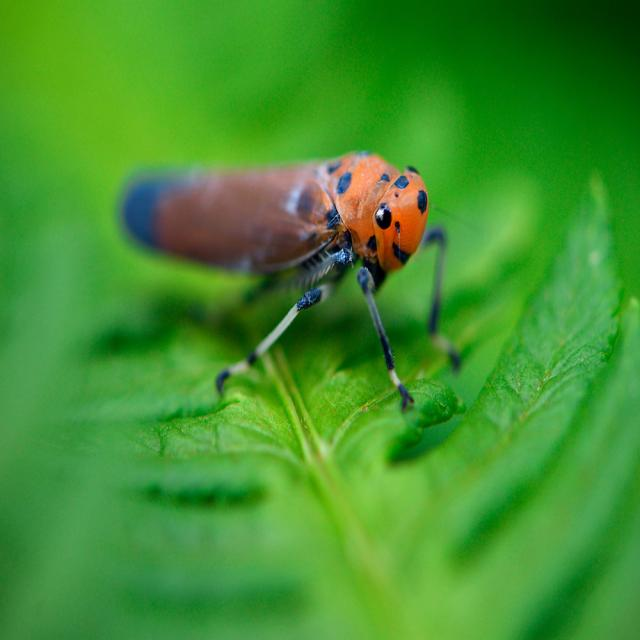Yechan: (113, 154, 442, 411)
